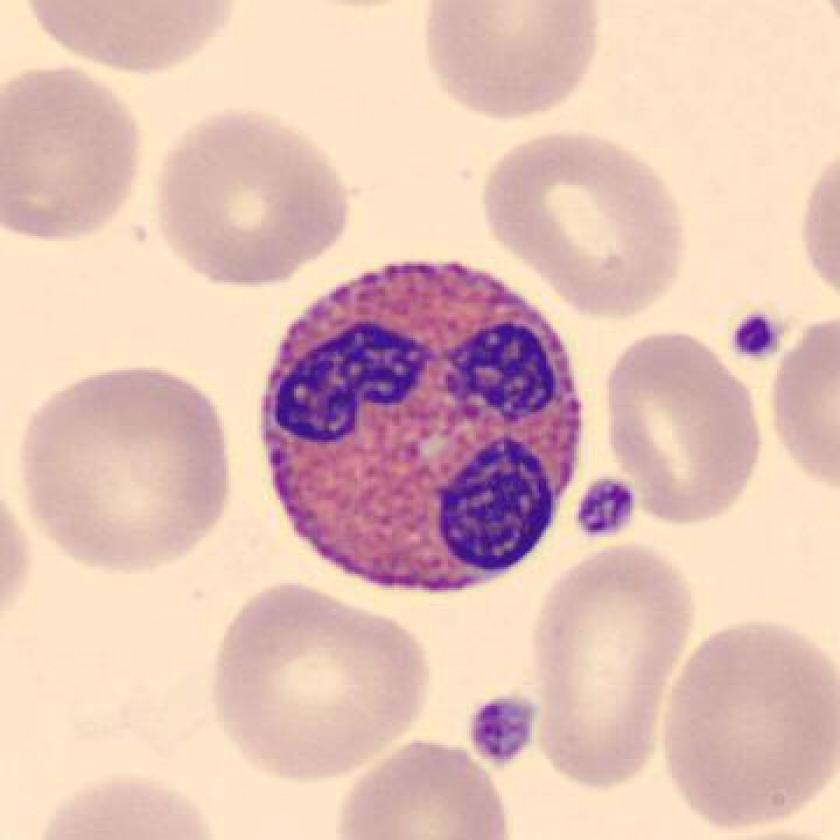eosinophil: (253, 251, 594, 605)
